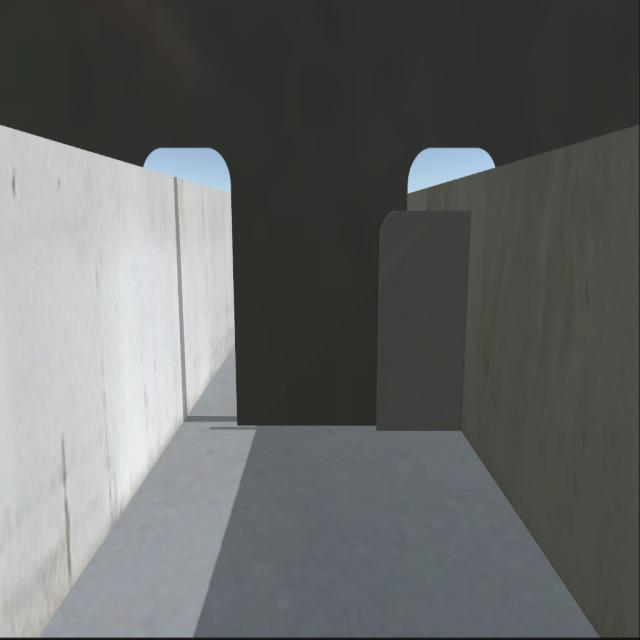fillet_yong_jeop_jang: (236, 419, 460, 433)
longi_yong_jeop_jang: (450, 211, 474, 437)
plate_CP05: (375, 209, 474, 427)
